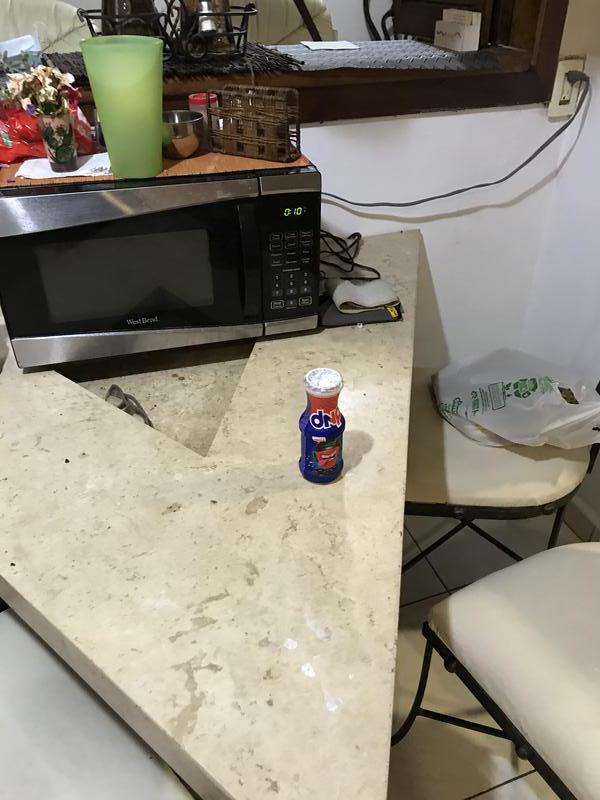danup: (297, 370, 349, 484)
